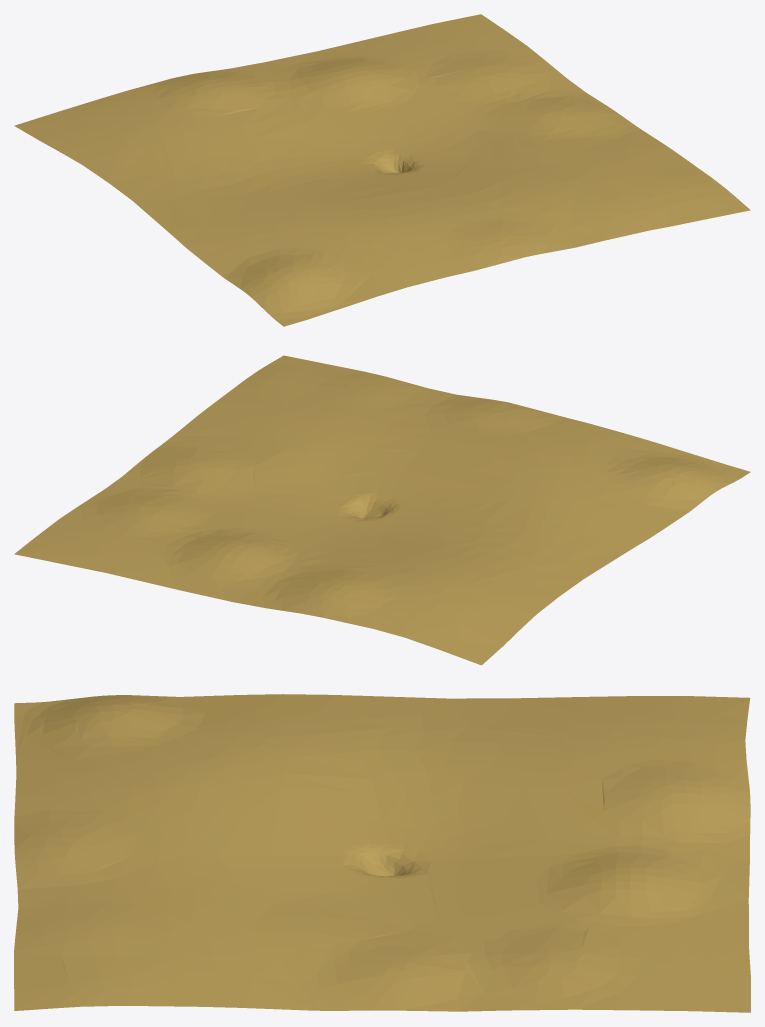
File: Ground.fbx
The picture shows the model from 3 angles, top to bottom: view 1: azimuth 30°, elevation 25°; view 2: azimuth 150°, elevation 25°; view 3: azimuth 270°, elevation 25°; orthographic projection. The views are drawn at different scales.
Parts seen in each view (by area): view 1: Ground; view 2: Ground; view 3: Ground.
Boxes of the visible parts, left/top/right/bottom form: Ground: left=14, top=14, right=750, bottom=326; Ground: left=14, top=355, right=750, bottom=665; Ground: left=14, top=694, right=750, bottom=1012.
Bounding box in the file's own units: 10014 × 586 × 10005.
